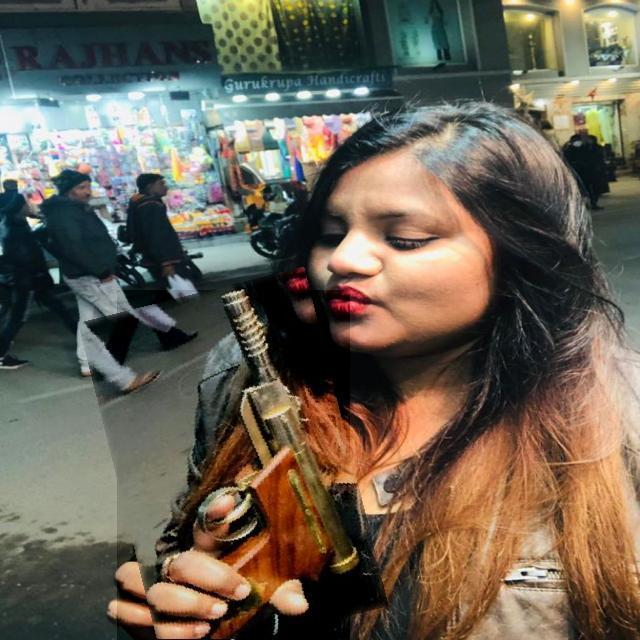handgun: (97, 278, 369, 640)
